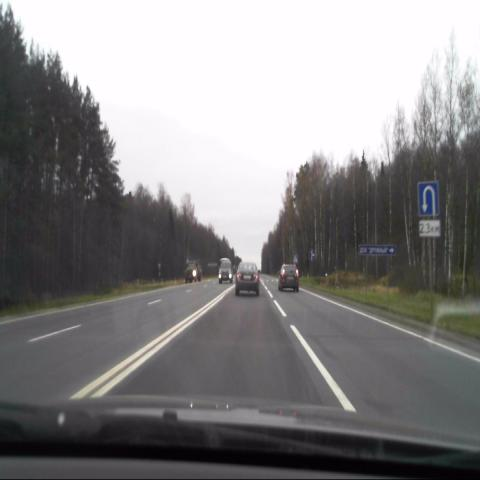6_3_1: (418, 182, 438, 217)
8_1_1: (419, 220, 441, 237)
